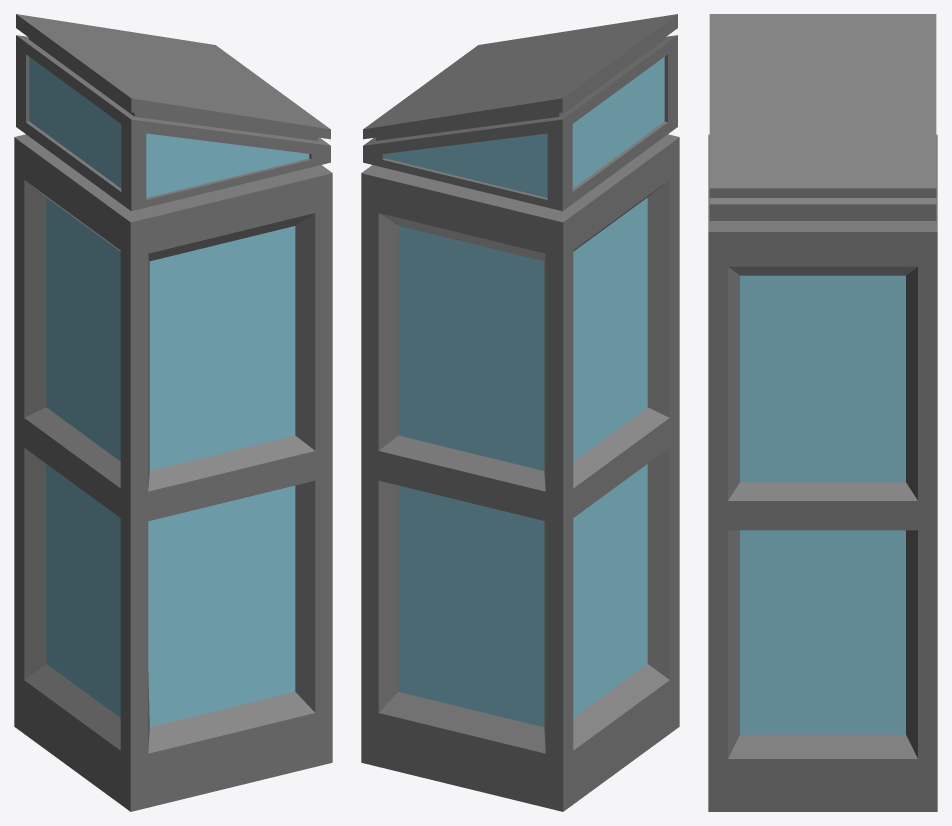
File: SkyScraper 5.fbx
3 renders of one model, left to right at view 1: azimuth 30°, elevation 25°; view 2: azimuth 150°, elevation 25°; view 3: azimuth 270°, elevation 25°, orthographic.
Parts seen in each view (by area): view 1: pCube42; view 2: pCube42; view 3: pCube42.
Boxes of the visible parts, <box> form: pCube42: <box>14,14,332,811</box>; pCube42: <box>361,14,679,811</box>; pCube42: <box>708,14,937,811</box>.
Bounding box in the file's own units: 14.4 × 48.56 × 14.4.
